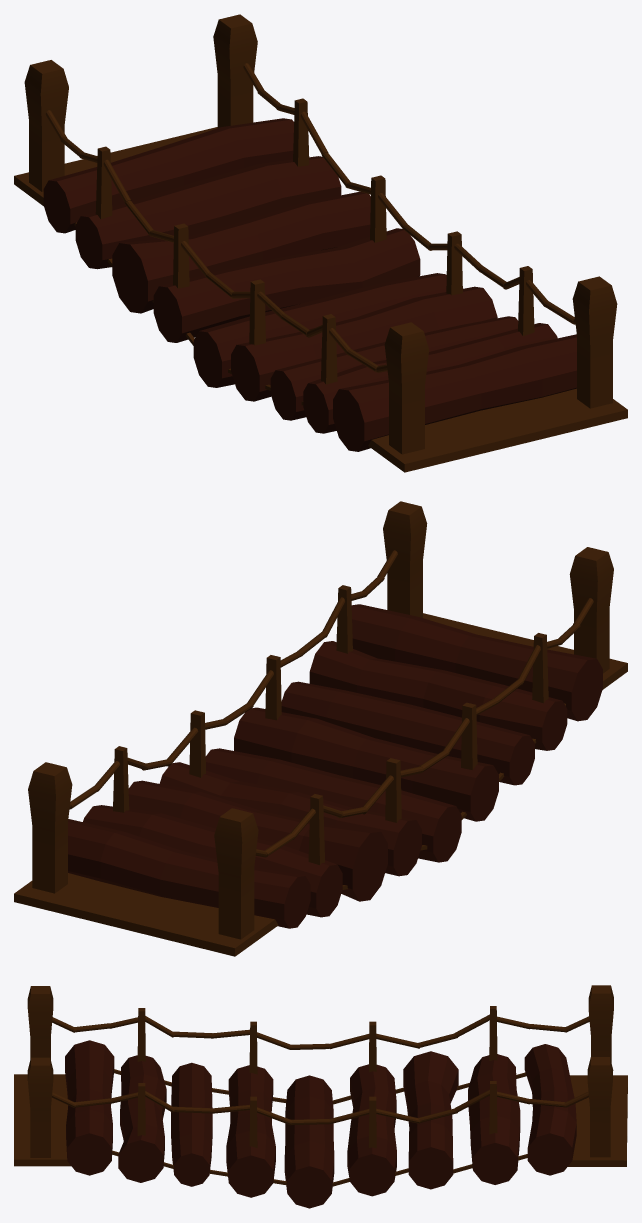
Rendered from Bridge 1.FBX.
3 renders of one model, top to bottom at view 1: azimuth 30°, elevation 25°; view 2: azimuth 150°, elevation 25°; view 3: azimuth 270°, elevation 25°, orthographic. The views are drawn at different scales.
Parts seen in each view (by area): view 1: Cylinder008, Box007, Cylinder011; view 2: Cylinder008, Box007, Cylinder011; view 3: Cylinder008, Box007, Cylinder011, Box002.
Part boxes in pixels (box(x1,y1,x2,y2)): Cylinder008: box(43, 118, 576, 451); Box007: box(14, 14, 627, 472); Cylinder011: box(45, 63, 575, 384); Cylinder008: box(68, 604, 602, 928); Box007: box(14, 501, 627, 956); Cylinder011: box(69, 550, 593, 864); Cylinder008: box(65, 1040, 576, 1208); Box007: box(14, 985, 627, 1166); Cylinder011: box(52, 1006, 589, 1148); Box002: box(112, 1069, 527, 1186).
Bounding box in the file's own units: 0.2229 × 0.161 × 0.6373.
